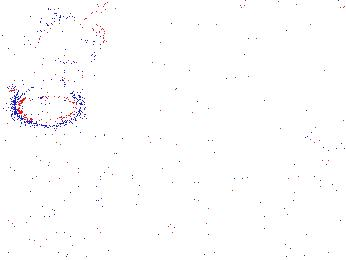moon jellyfish: (27, 17, 108, 94), (276, 124, 346, 206), (144, 21, 231, 63), (15, 74, 82, 126)
